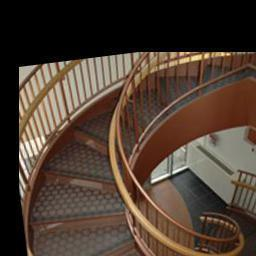Escaleras: (6, 39, 256, 256)
